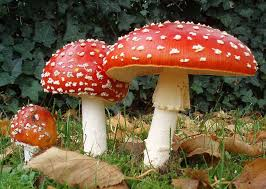Amanita muscaria: (104, 14, 255, 166), (43, 40, 128, 150), (8, 103, 56, 158)
